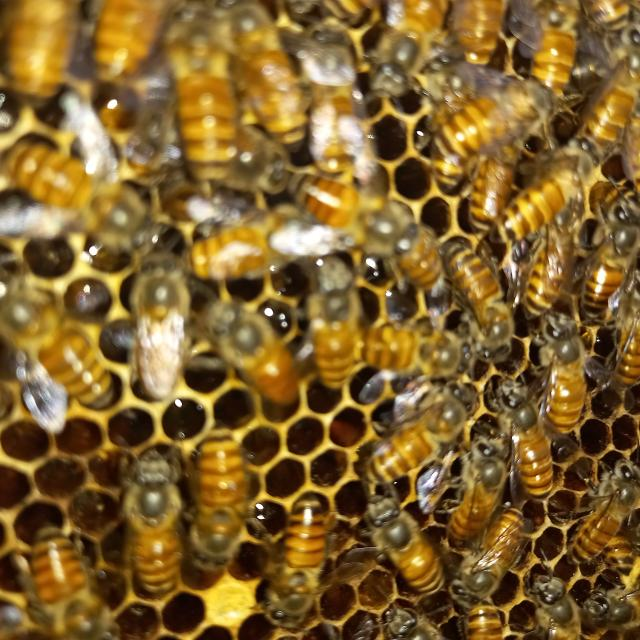honeybee: (0, 288, 117, 438), (2, 139, 142, 240), (171, 16, 248, 190), (226, 2, 317, 142), (286, 165, 418, 248), (308, 30, 382, 174), (202, 303, 304, 406), (123, 255, 198, 394), (190, 435, 262, 578), (20, 532, 114, 640), (4, 0, 86, 118), (126, 450, 188, 598), (432, 78, 558, 150), (491, 381, 568, 498), (365, 494, 445, 601), (494, 151, 583, 246), (268, 500, 334, 624), (199, 216, 333, 276), (530, 314, 598, 432), (564, 456, 640, 556), (452, 426, 512, 548), (362, 313, 459, 387), (456, 251, 522, 359), (376, 402, 462, 479), (452, 508, 526, 597), (86, 0, 160, 89), (530, 199, 584, 313), (523, 0, 586, 95), (569, 85, 640, 162), (310, 289, 362, 385), (445, 0, 513, 73), (588, 224, 640, 316), (380, 227, 446, 298), (510, 574, 580, 640), (468, 152, 511, 225), (580, 588, 640, 638), (615, 293, 640, 399), (388, 0, 458, 32), (584, 0, 639, 39), (464, 598, 513, 640), (370, 612, 443, 640)
